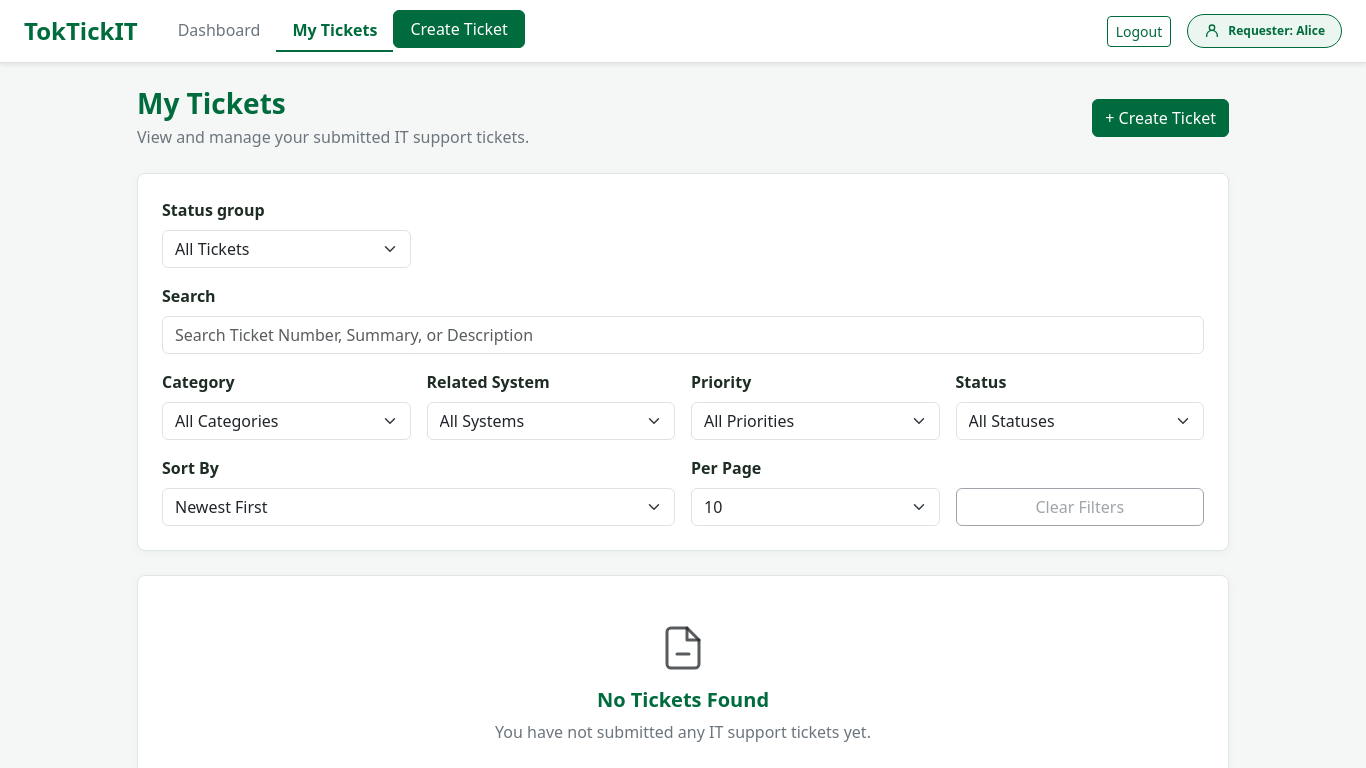
Test: Authenticated shell replaces selector › a delayed session response cannot restore the shell after logout
Click the button "Logout": (1139, 31) [1107, 16, 1171, 46]
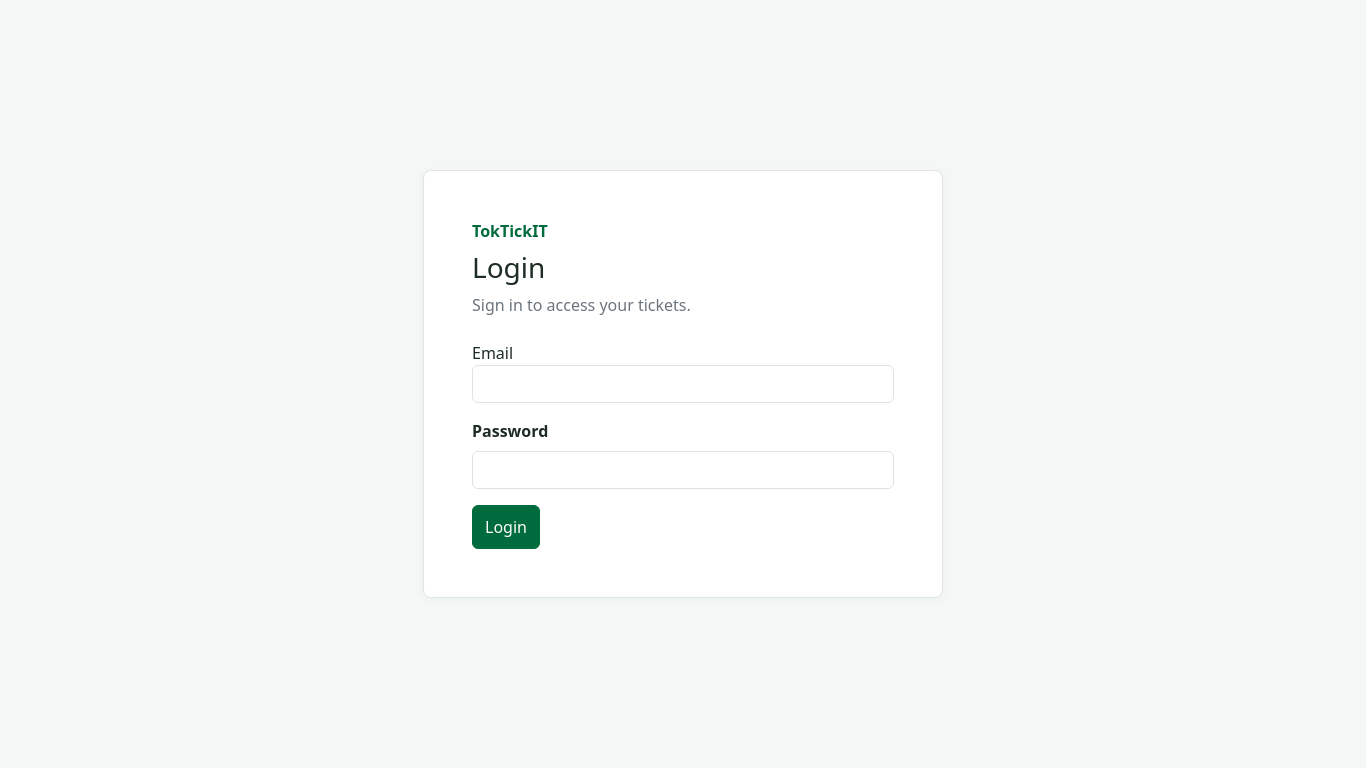
Now the heading "Login" is shown, box [472, 248, 545, 286]
Now the navigation bar is gone
